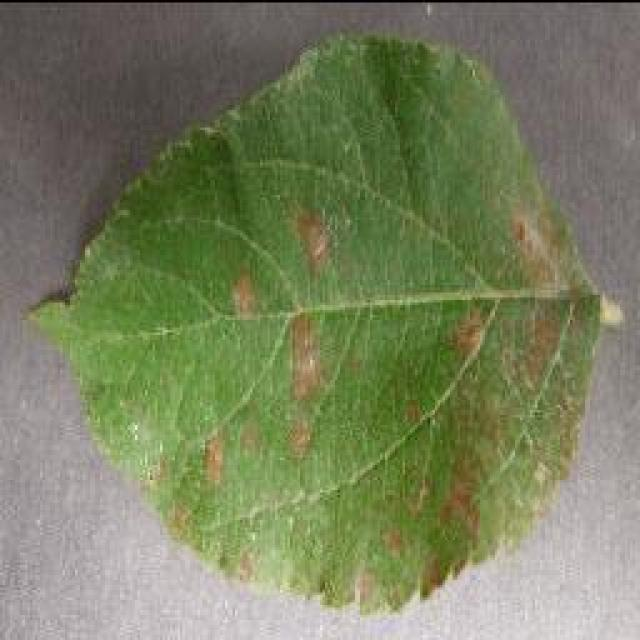apple cedar apple rust: (22, 30, 612, 618)
